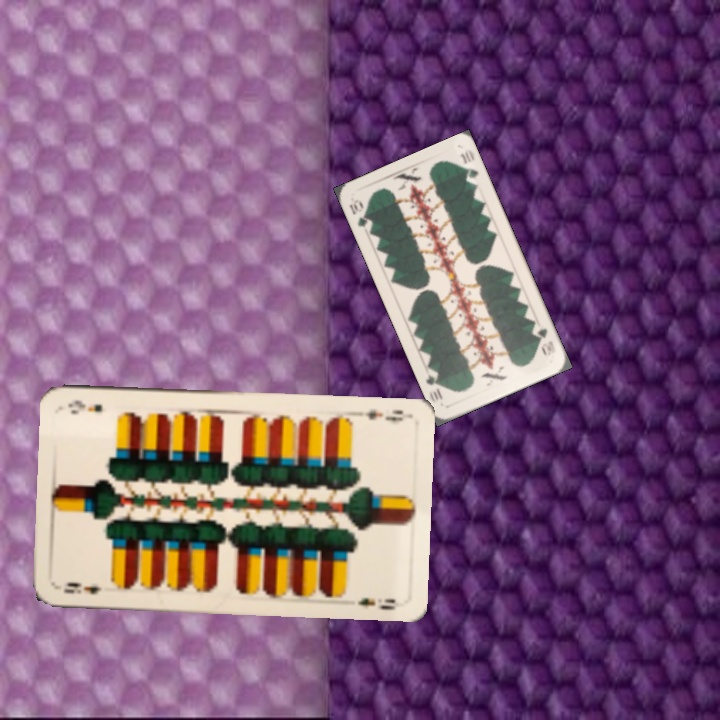E9: (352, 405, 406, 424), (60, 578, 104, 597)
G10: (345, 195, 372, 234), (532, 324, 558, 358)
